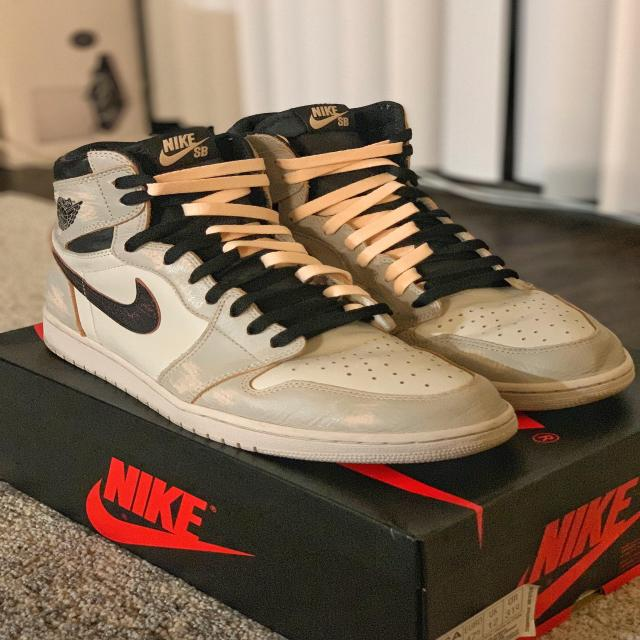shoe: (41, 125, 522, 464), (225, 99, 639, 414)
